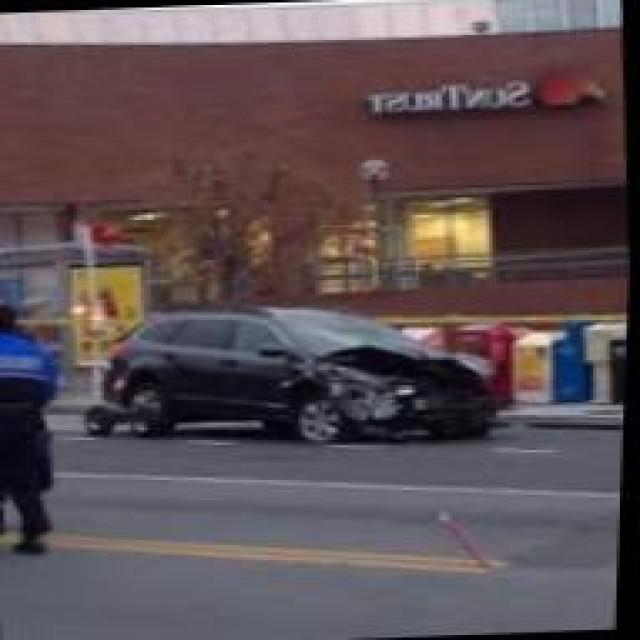Bonnet: (299, 337, 500, 380)
Bumper: (345, 380, 507, 440)
Fender: (268, 358, 348, 418)
